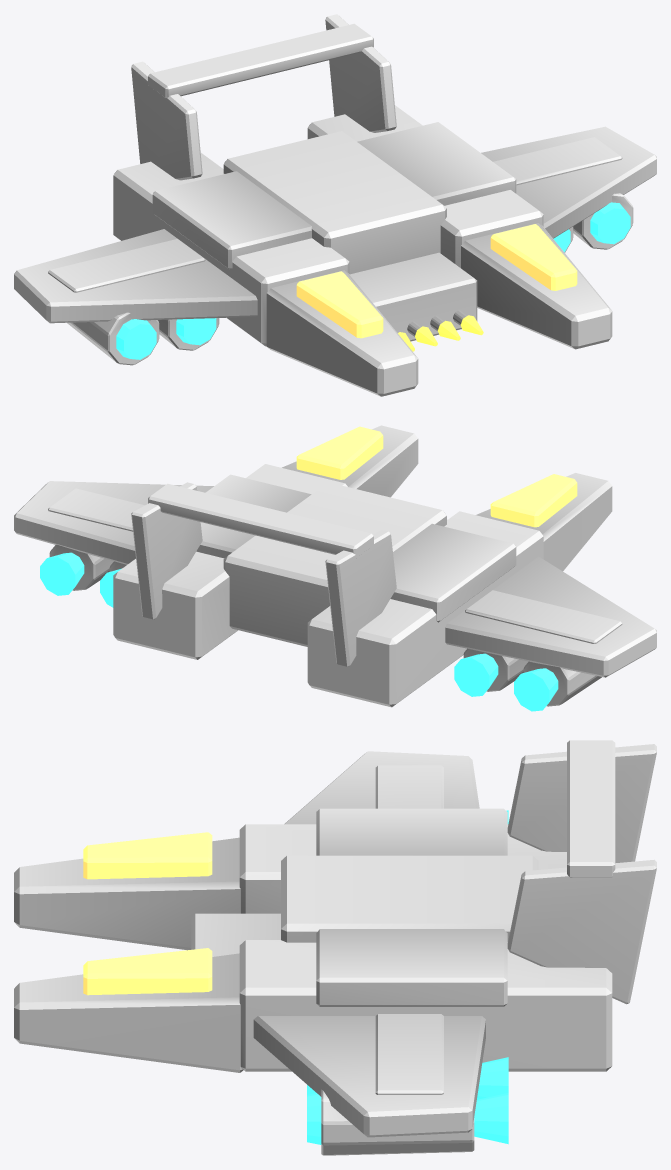
Rendered from e1_lance_bomber.glb.
3 views of the same model, one above another, from view 1: azimuth 30°, elevation 25°; view 2: azimuth 150°, elevation 25°; view 3: azimuth 270°, elevation 25° (orthographic). The views are drawn at different scales.
Visible parts, largest first — view 1: CenterBridge, Wing_L, BoomBody_L, BoomNose_L, BoomTrim_L, BoomNose_R, Wing_R, BoomTrim_R, OrdnanceBay, TailCrossbar, BoomBody_R, TailFin_L (+11 smaller); view 2: CenterBridge, BoomBody_L, Wing_L, BoomBody_R, BoomTrim_L, TailCrossbar, Wing_R, TailFin_L, TailFin_R, BoomNose_L, WingStripe_L, BoomTrim_R (+11 smaller); view 3: BoomBody_R, CenterBridge, BoomNose_R, Wing_R, BoomTrim_R, BoomNose_L, TailFin_R, BoomTrim_L, TailFin_L, TailCrossbar, BoomBody_L, WingStripe_R (+9 smaller).
Part boxes in pixels (x1,y1,x2,y2): CenterBridge: (223, 131, 446, 274); Wing_L: (14, 229, 257, 323); BoomBody_L: (113, 153, 349, 346); BoomNose_L: (266, 270, 418, 396); BoomTrim_L: (152, 171, 311, 269); BoomNose_R: (461, 223, 612, 349); Wing_R: (481, 126, 656, 238); BoomTrim_R: (357, 122, 516, 205); OrdnanceBay: (349, 252, 477, 341); TailCrossbar: (148, 23, 373, 98); BoomBody_R: (307, 105, 543, 267); TailFin_L: (131, 61, 202, 180); CenterBridge: (223, 482, 446, 646); BoomBody_L: (307, 511, 543, 707); Wing_L: (445, 556, 656, 677); BoomBody_R: (113, 464, 347, 659); BoomTrim_L: (390, 523, 516, 622); TailCrossbar: (148, 483, 373, 557); Wing_R: (14, 481, 213, 564); TailFin_L: (325, 529, 396, 666); TailFin_R: (131, 482, 202, 619); BoomNose_L: (476, 473, 612, 571); WingStripe_L: (465, 590, 622, 643); BoomTrim_R: (196, 474, 311, 558); BoomBody_R: (239, 940, 612, 1071); CenterBridge: (281, 855, 538, 942); BoomNose_R: (14, 953, 243, 1072); Wing_R: (253, 1016, 485, 1137); BoomTrim_R: (316, 929, 507, 1006); BoomNose_L: (14, 837, 240, 950); TailFin_R: (507, 859, 656, 1004); BoomTrim_L: (316, 808, 507, 855); TailFin_L: (507, 744, 656, 863); TailCrossbar: (567, 740, 615, 877); BoomBody_L: (239, 824, 566, 913); WingStripe_R: (375, 1014, 443, 1094).
Bounding box in the file's own units: 3.1 × 0.835 × 2.31.
